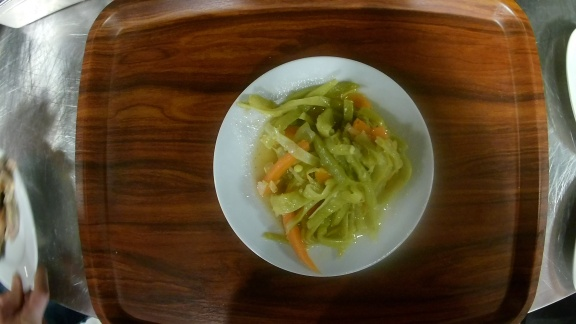tazefasulye: (212, 55, 434, 277)
